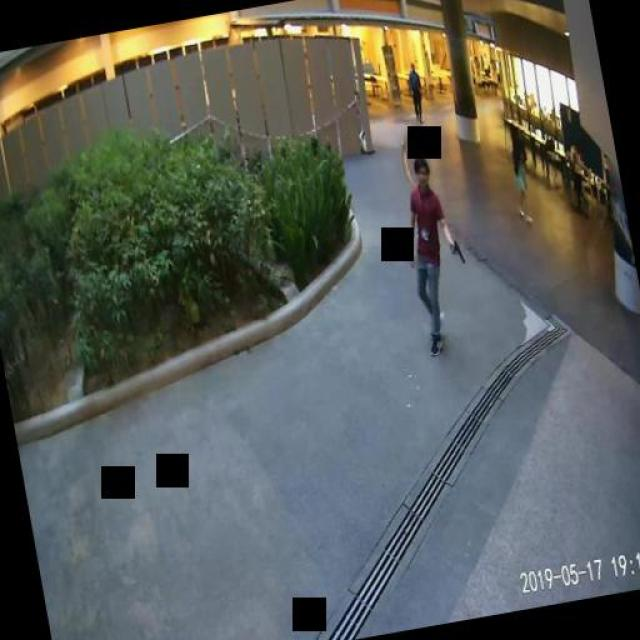gun: (446, 236, 462, 262)
